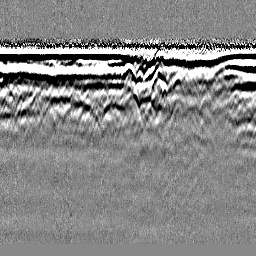cavity: (120, 62, 137, 85)
